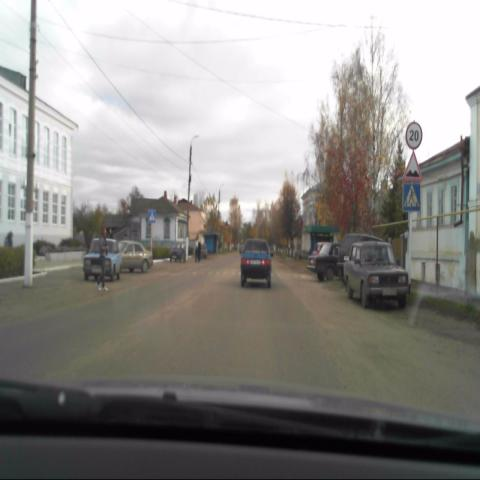1_16: (403, 153, 422, 180)
